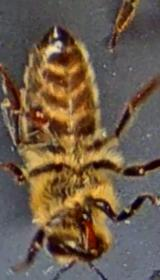varroa_mite: (19, 102, 52, 128)
